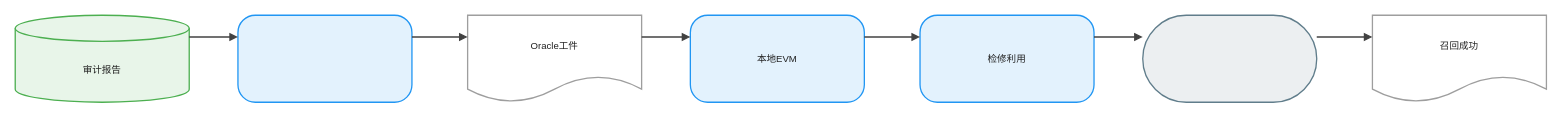
Image size: 1563x118. Some labels were removed from this diagram. The centre of each missing label's shape, as x and y in pixels:
"漏洞筛选" belongs at (x=324, y=58).
"程序评分" belongs at (x=1229, y=58).
